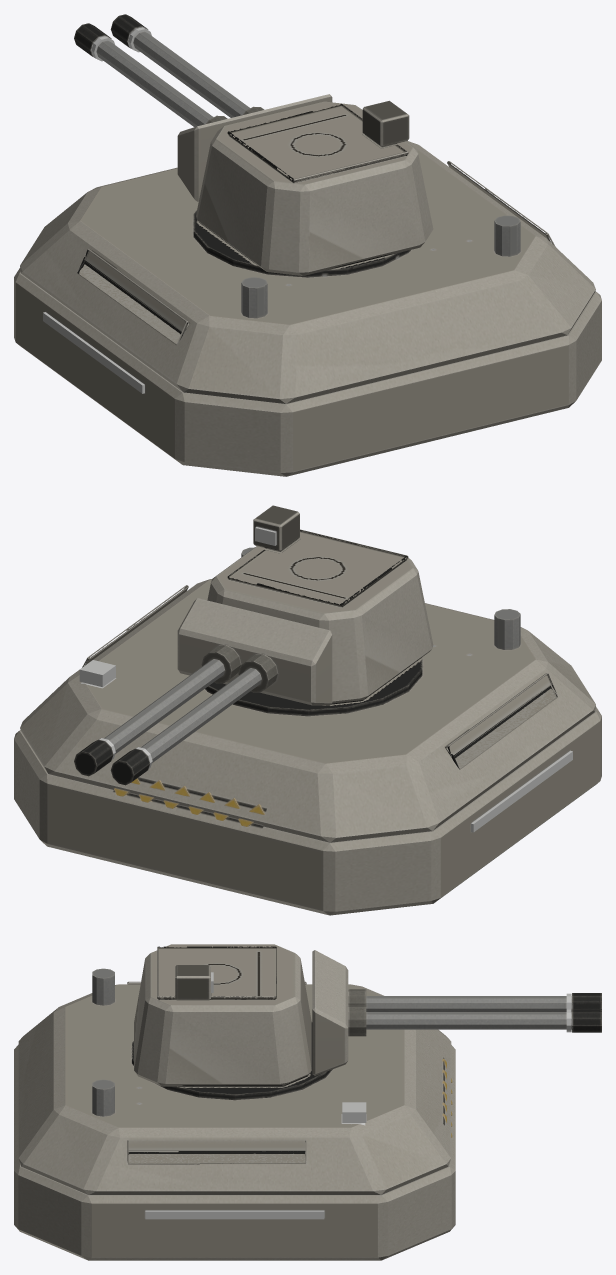
The model's file is ord_moat.fbx.
3 views of the same model, one above another, from view 1: azimuth 30°, elevation 25°; view 2: azimuth 150°, elevation 25°; view 3: azimuth 270°, elevation 25° (orthographic). The views are drawn at different scales.
Visible parts, largest first — view 1: base_bar, turret_bar, base_glow_running_bar; view 2: base_bar, turret_bar, base_glow_running_bar; view 3: base_bar, turret_bar, base_glow_running_bar.
Boxes of the visible parts, x1,y1,x2,y2 form: base_bar: (14, 141, 601, 476); turret_bar: (74, 14, 433, 275); base_glow_running_bar: (43, 312, 144, 393); base_bar: (14, 547, 601, 915); turret_bar: (74, 505, 433, 785); base_glow_running_bar: (79, 660, 572, 832); base_bar: (14, 968, 455, 1260); turret_bar: (134, 944, 601, 1086); base_glow_running_bar: (145, 1102, 366, 1219).
Size of the model in its own units: 749 by 522 by 985.
2 materials, 2 textured.
